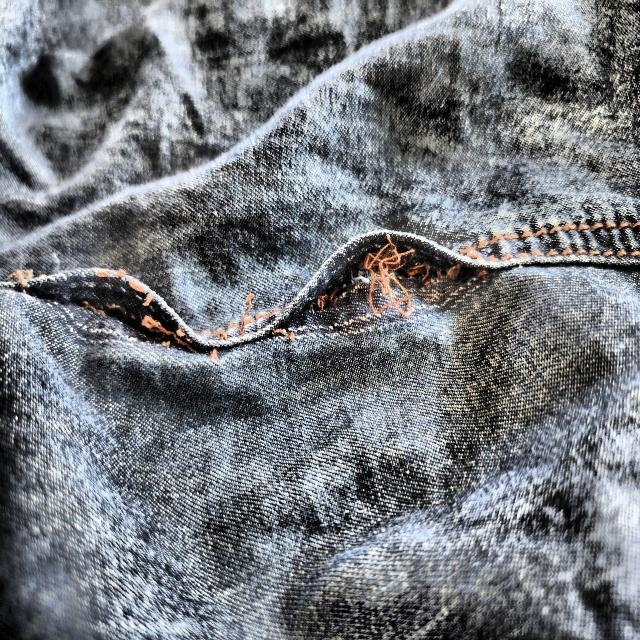seam: (252, 185, 519, 377), (0, 215, 240, 408)
